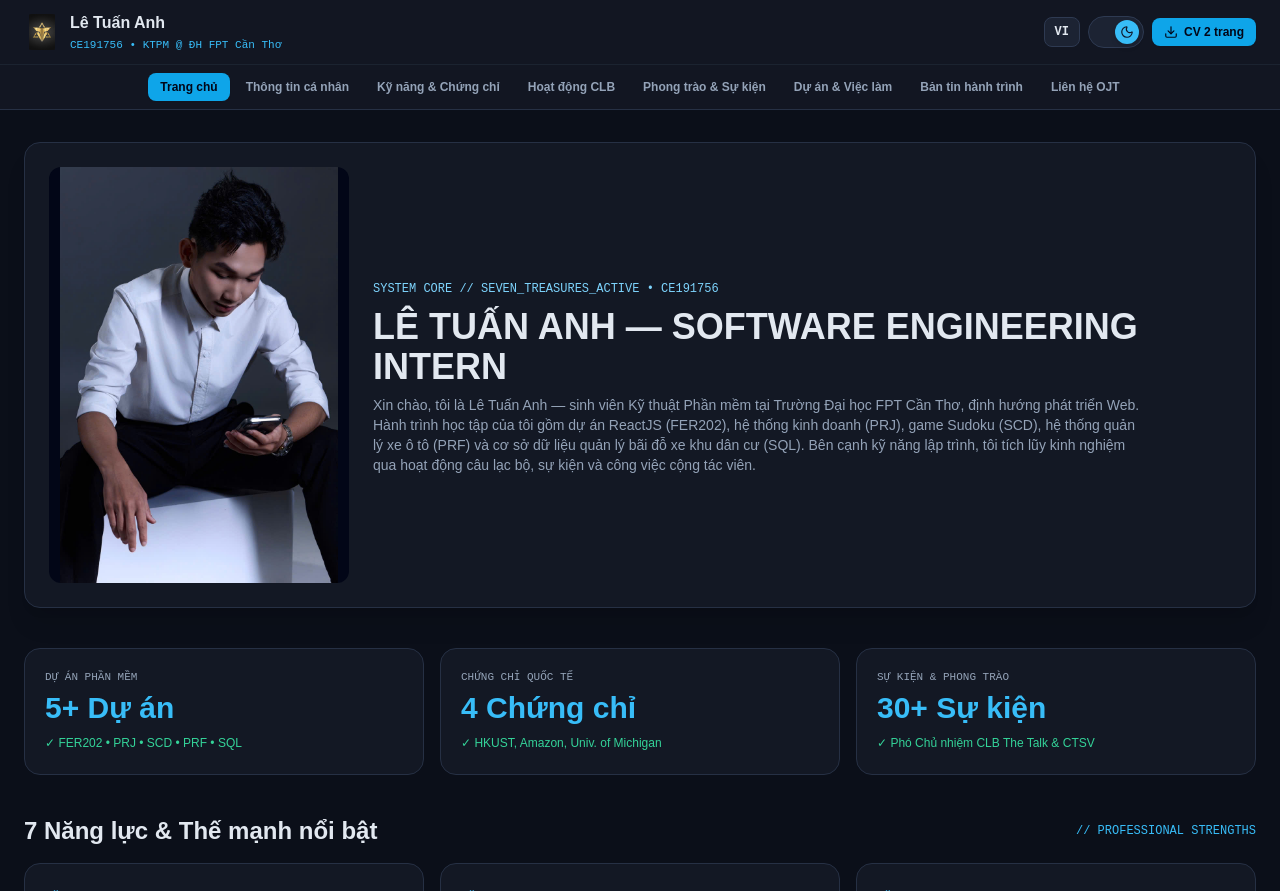
sends the contact form directly to the email API
Click the button "Liên hệ OJT". click: (1085, 87)
box: top-left (1039, 73), bottom-right (1132, 101)
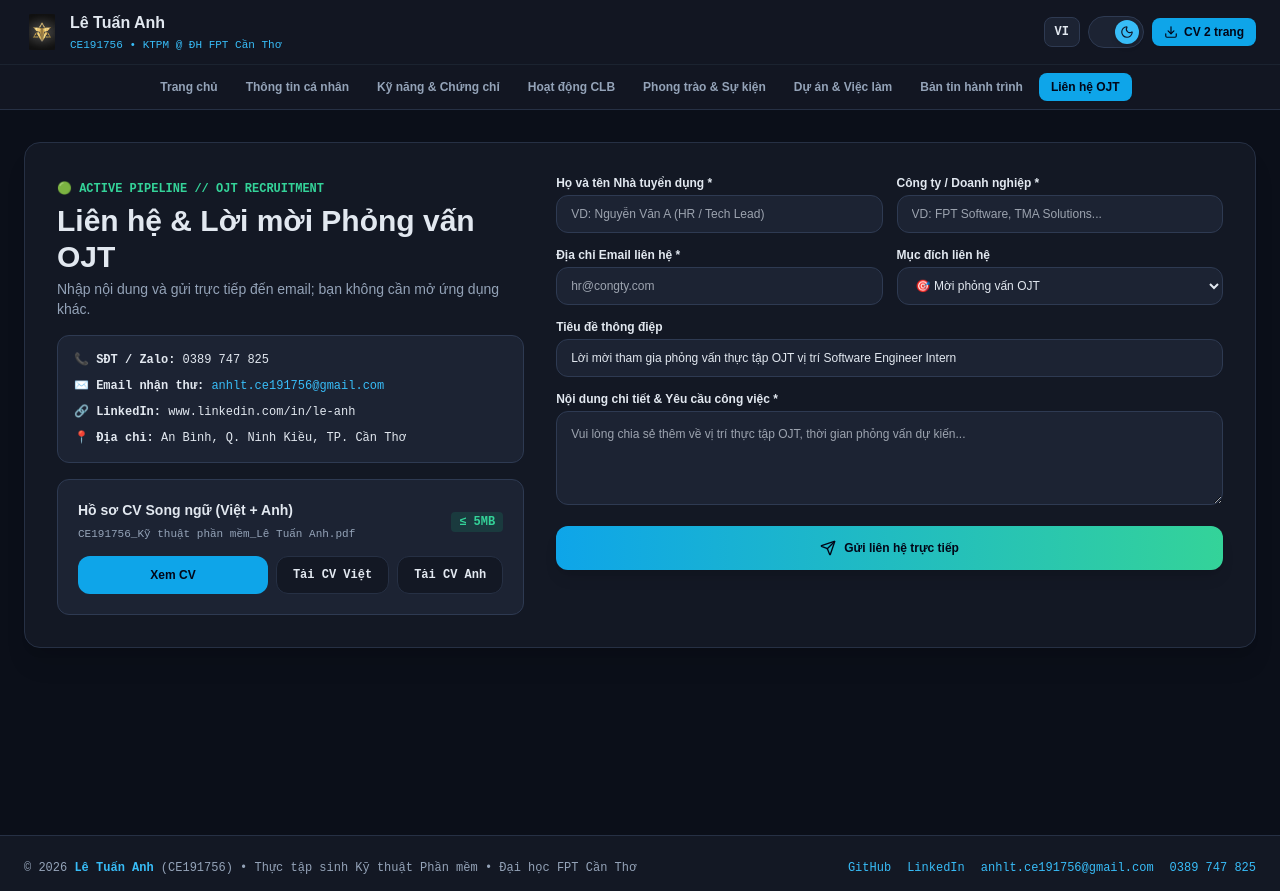
Type "Nguyen Van A" into the field with placeholder "VD: Nguyễn Văn A (HR / Tech Lead)". click: (719, 214)
box: top-left (556, 195), bottom-right (883, 233)
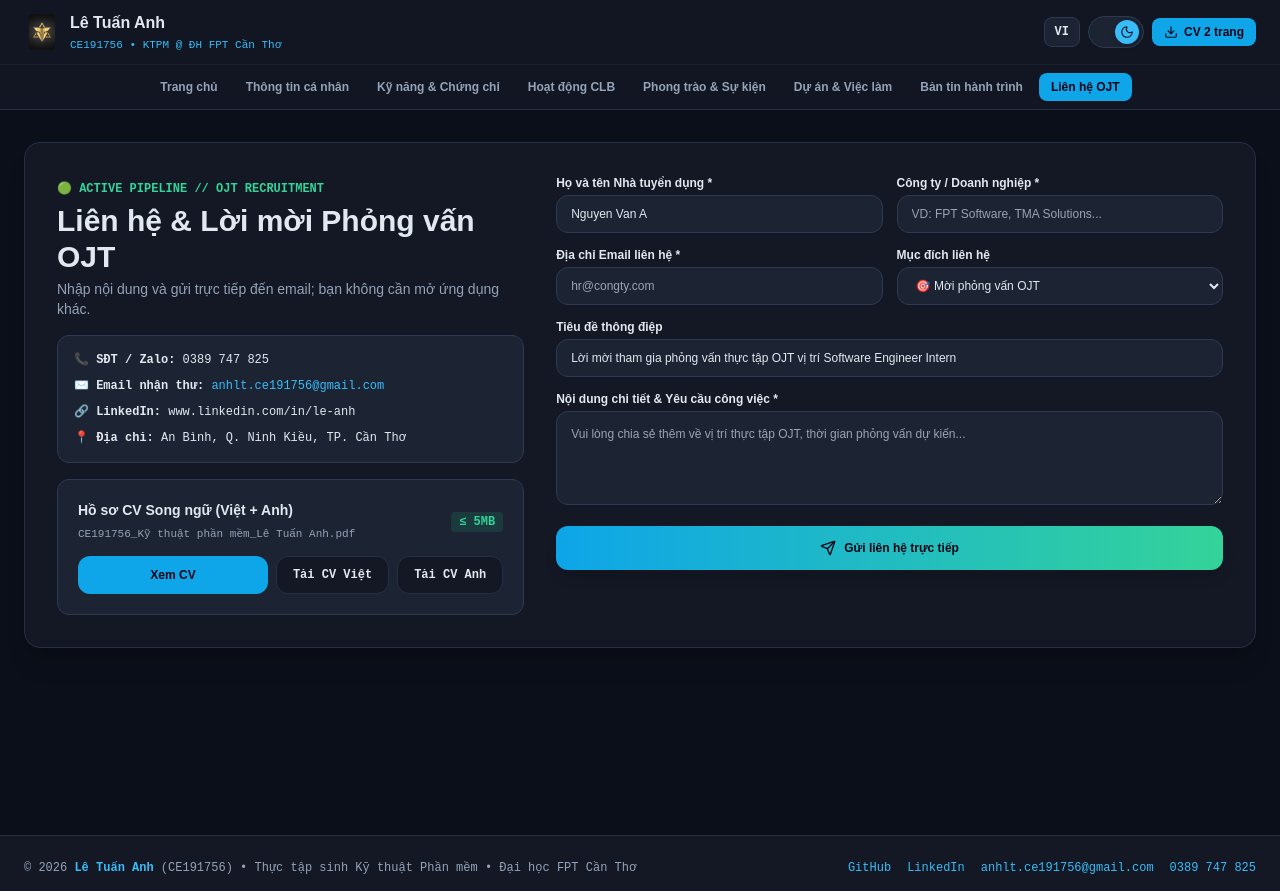
Type "Example Company" into the field with placeholder "VD: FPT Software, TMA Solutions...". click: (1060, 214)
box: top-left (897, 195), bottom-right (1223, 233)
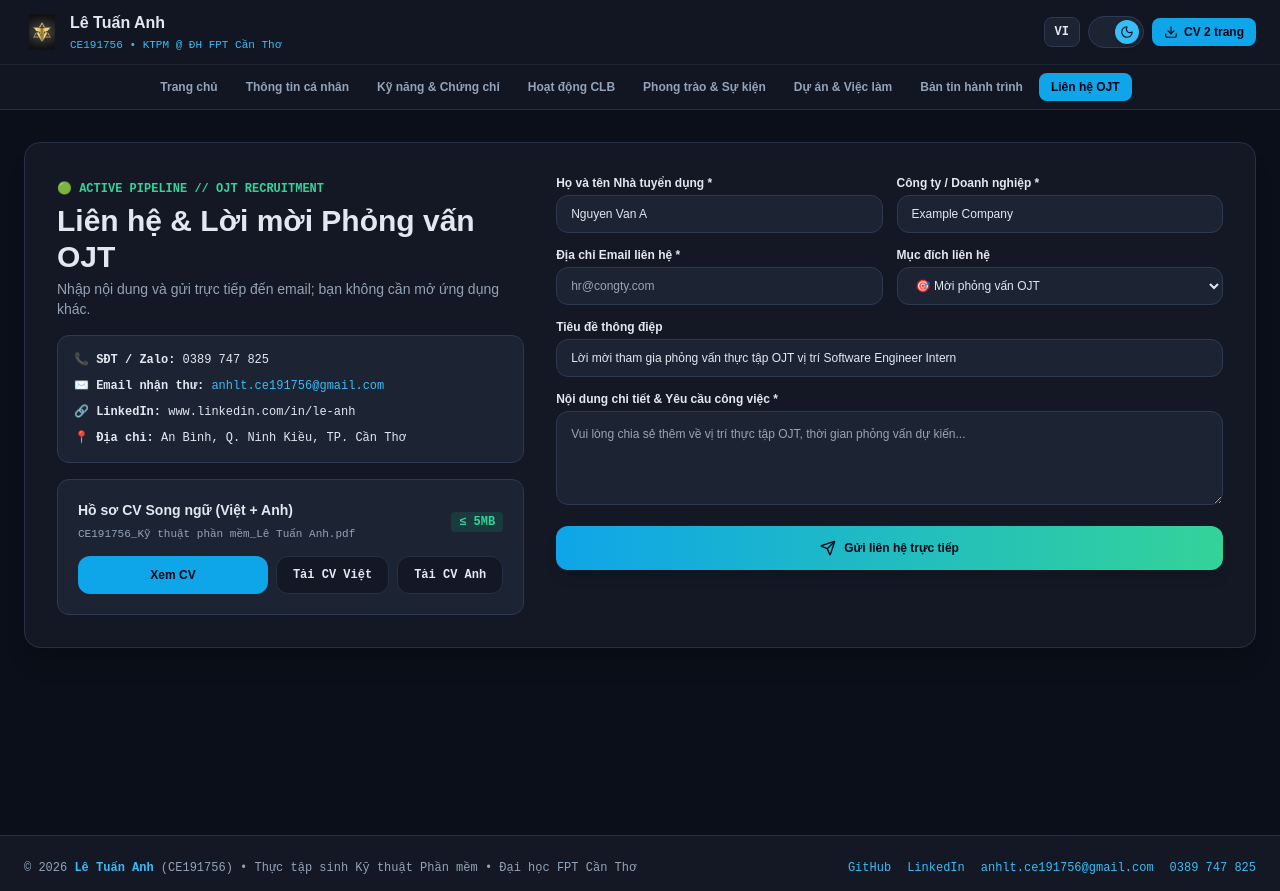
Type "hr@example.com" into the field with placeholder "hr@congty.com". click: (719, 286)
box: top-left (556, 267), bottom-right (883, 305)
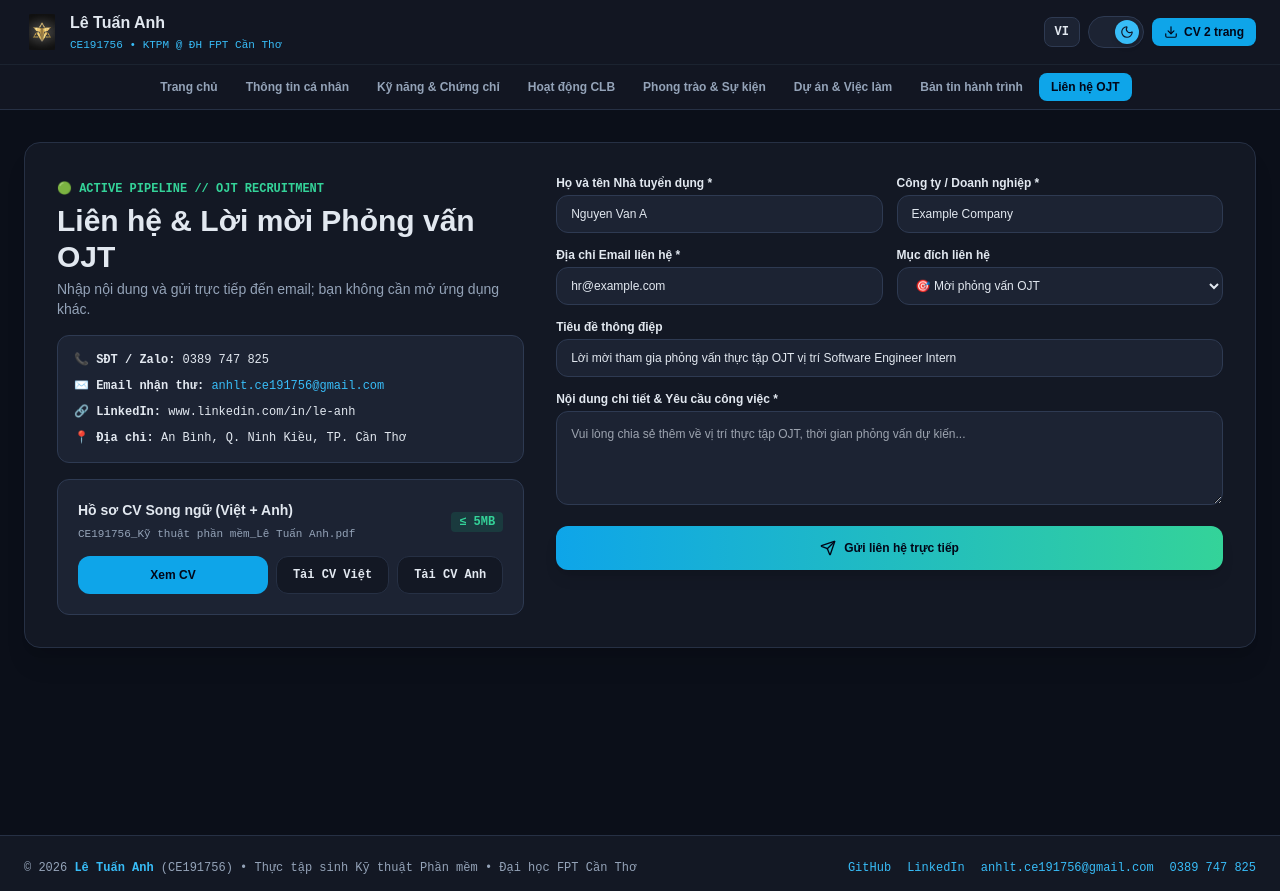
Replace the text in the text box with placeholder "Vui lòng chia sẻ thêm về vị trí thực tập OJT, thời gian phỏng vấn dự kiến..." with "Mời trao đổi về kỳ thực tập OJT sắp tới.". click: (890, 458)
box: top-left (556, 411), bottom-right (1223, 505)
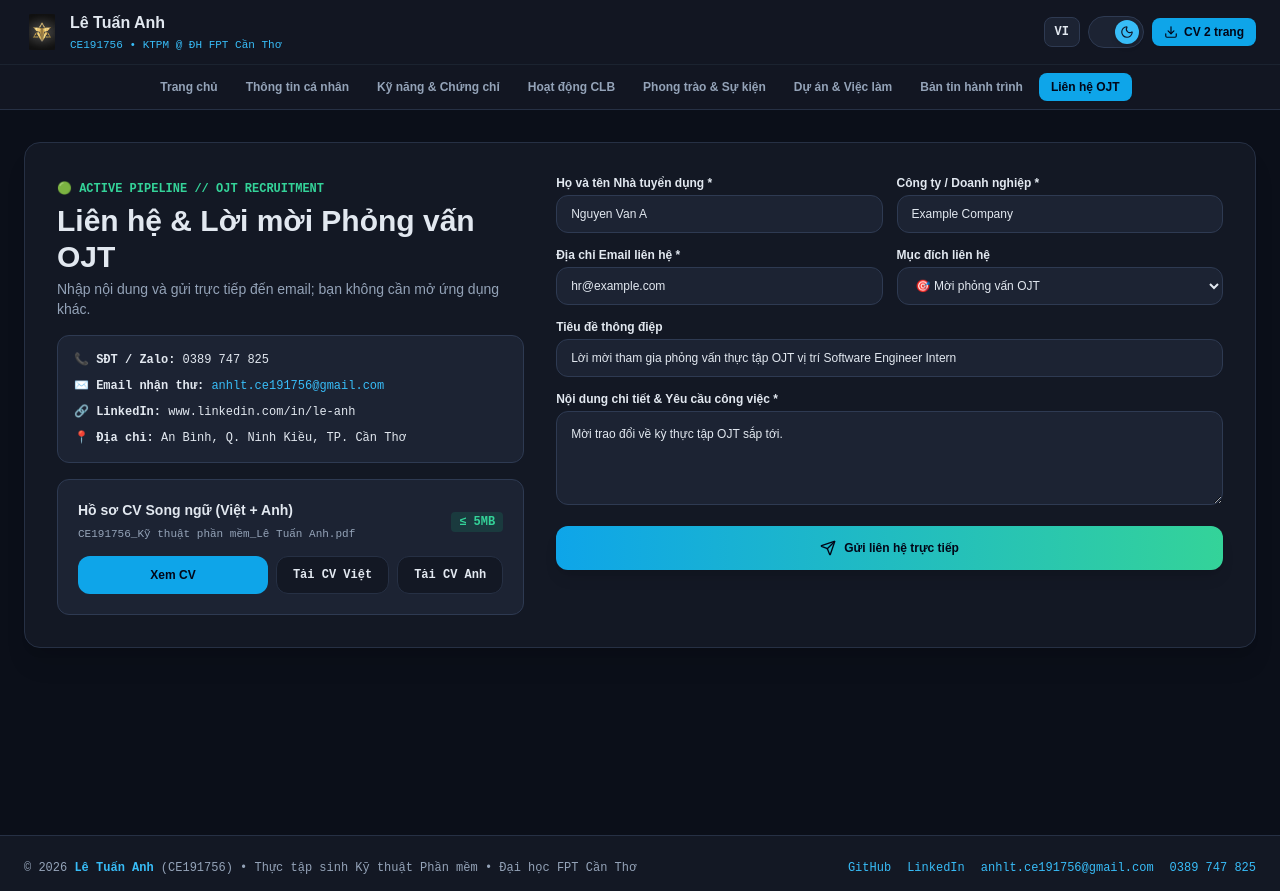
Click the button "Gửi liên hệ trực tiếp". click: (890, 548)
box: top-left (556, 526), bottom-right (1223, 570)
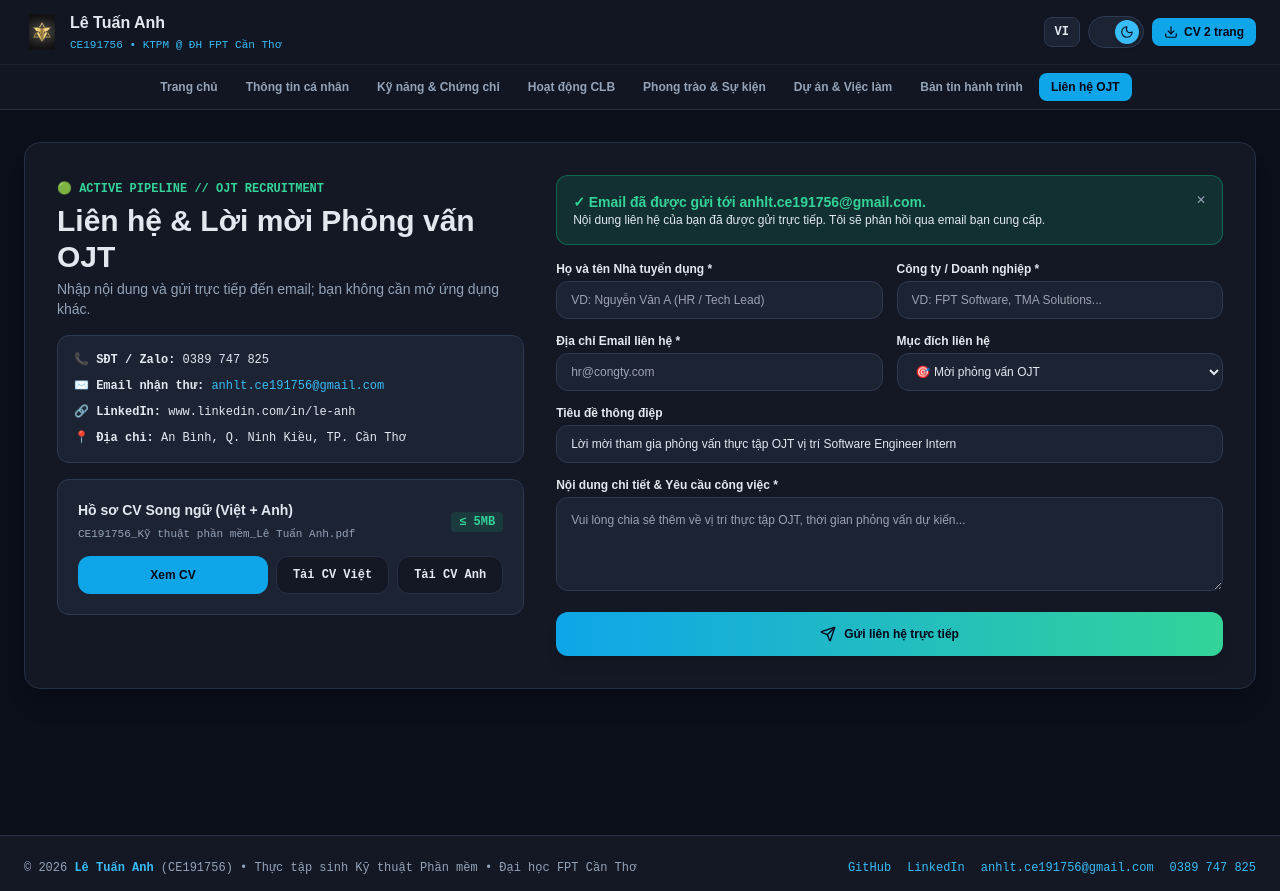
Expected: the text "✓ Email đã được gửi tới anhlt.ce191756@gmail.com." is shown, top-left (573, 194), bottom-right (926, 210)
